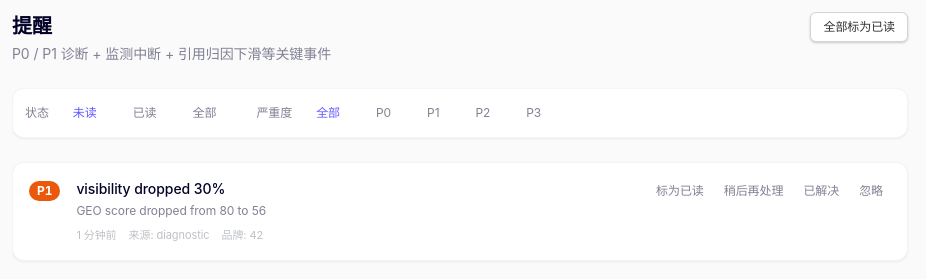
Test: AlertsPage snooze UI (PRD §4.8.7 / audit #1044 B3-3) › clicking 稍后再处理 reveals preset hour chips
Click the button "稍后再处理": (754, 191) [716,179,791,203]
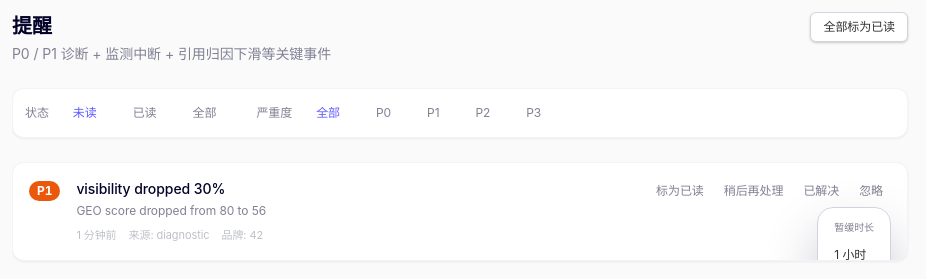
Result: the button "1 小时" is shown at [826,243,882,260]
